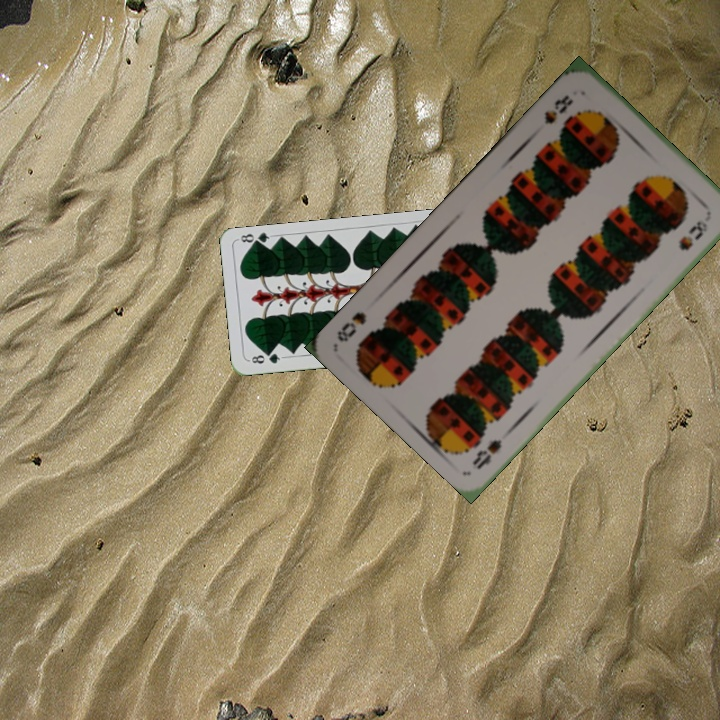G8: (245, 349, 286, 366)
S8: (540, 90, 577, 127), (468, 435, 505, 472)
